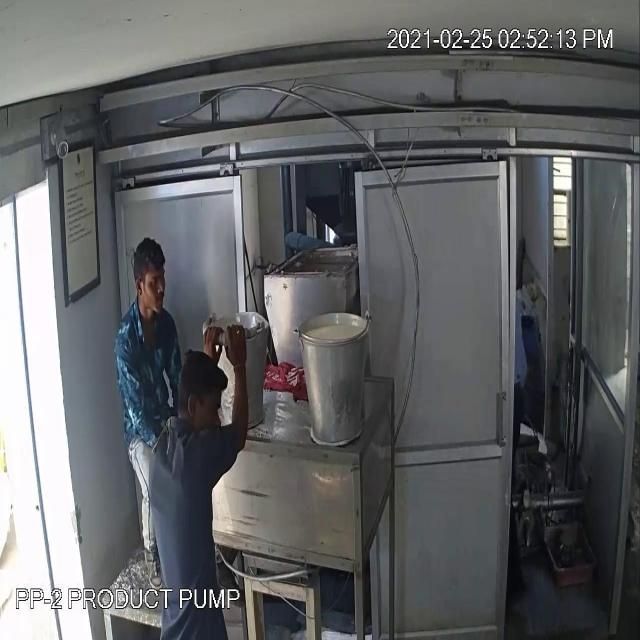no-helmet: (176, 346, 228, 415), (126, 228, 172, 289)
